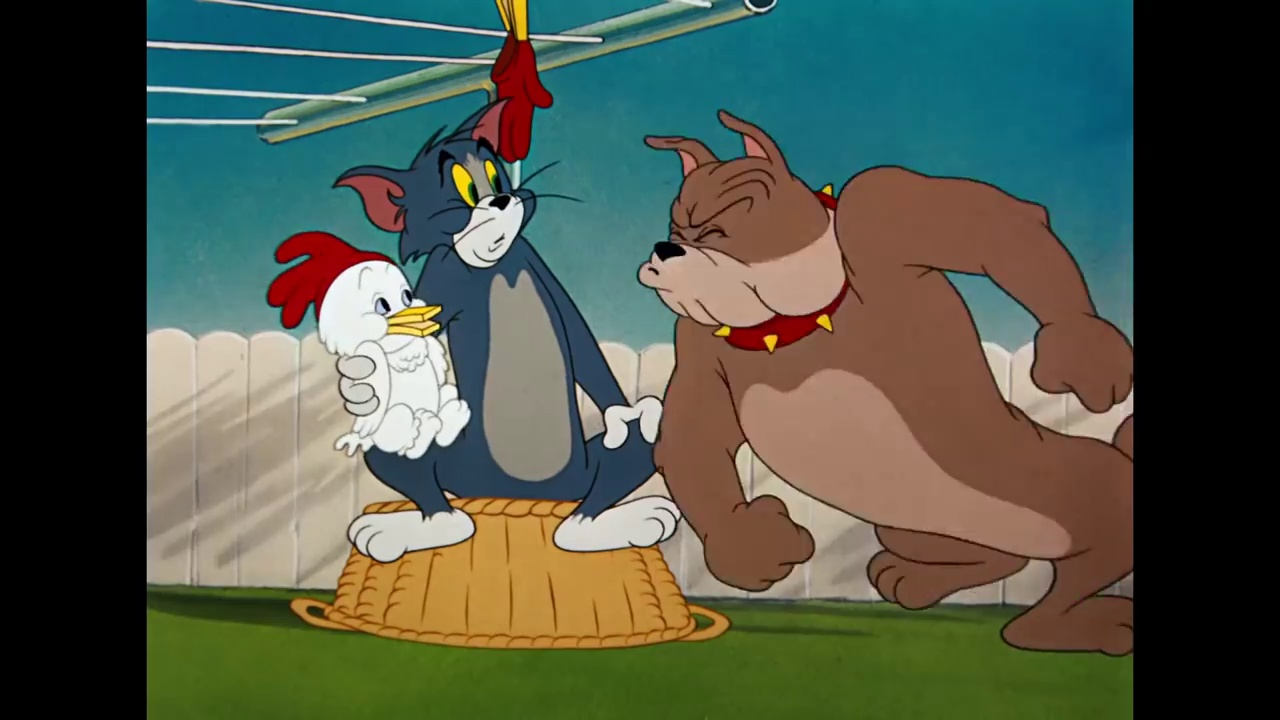spike: (631, 109, 864, 357)
tom: (330, 94, 552, 274)
